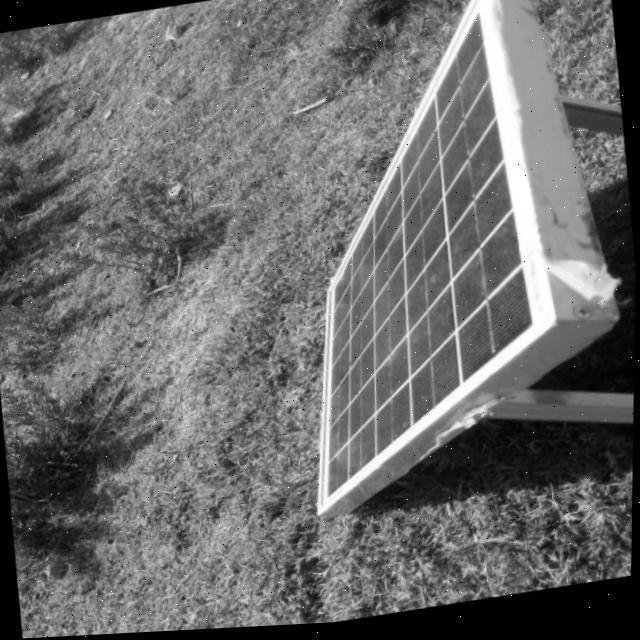Normal Solar Panel: (265, 0, 581, 515)
